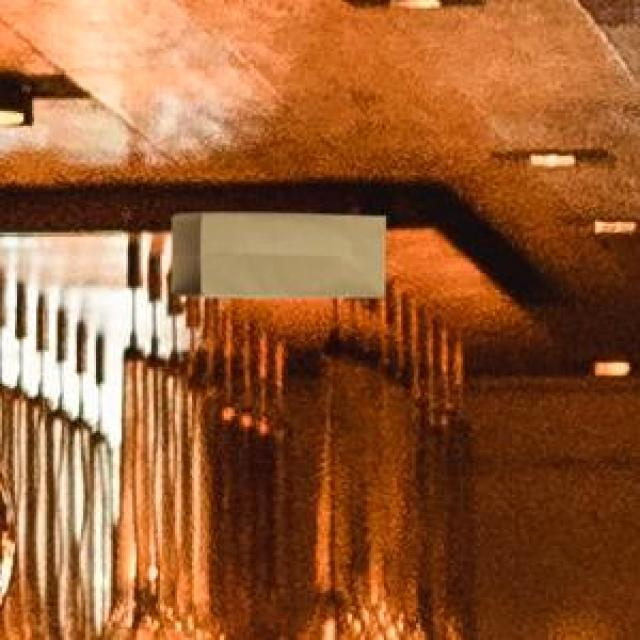Paper_Bag: (167, 210, 383, 296)
